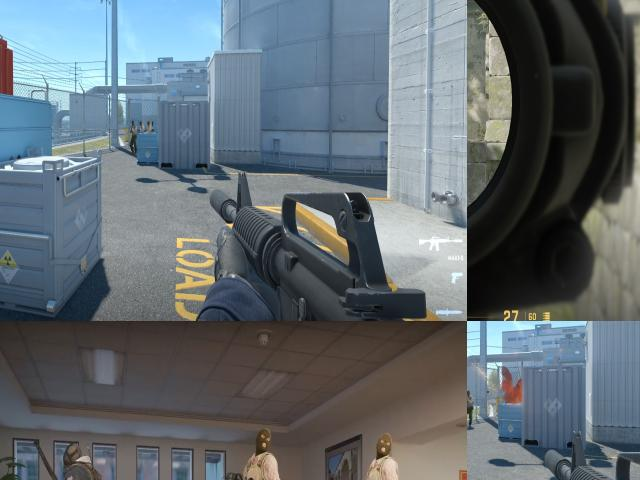CT: (57, 436, 108, 480)
CT-Head: (63, 439, 90, 475)
T: (241, 441, 280, 480), (358, 451, 405, 480), (131, 121, 137, 151), (467, 389, 472, 420), (146, 121, 152, 132), (140, 122, 144, 132)
T-Head: (376, 424, 398, 472), (250, 425, 274, 460), (131, 121, 135, 127), (467, 389, 470, 397), (140, 122, 142, 126), (148, 122, 150, 125)
